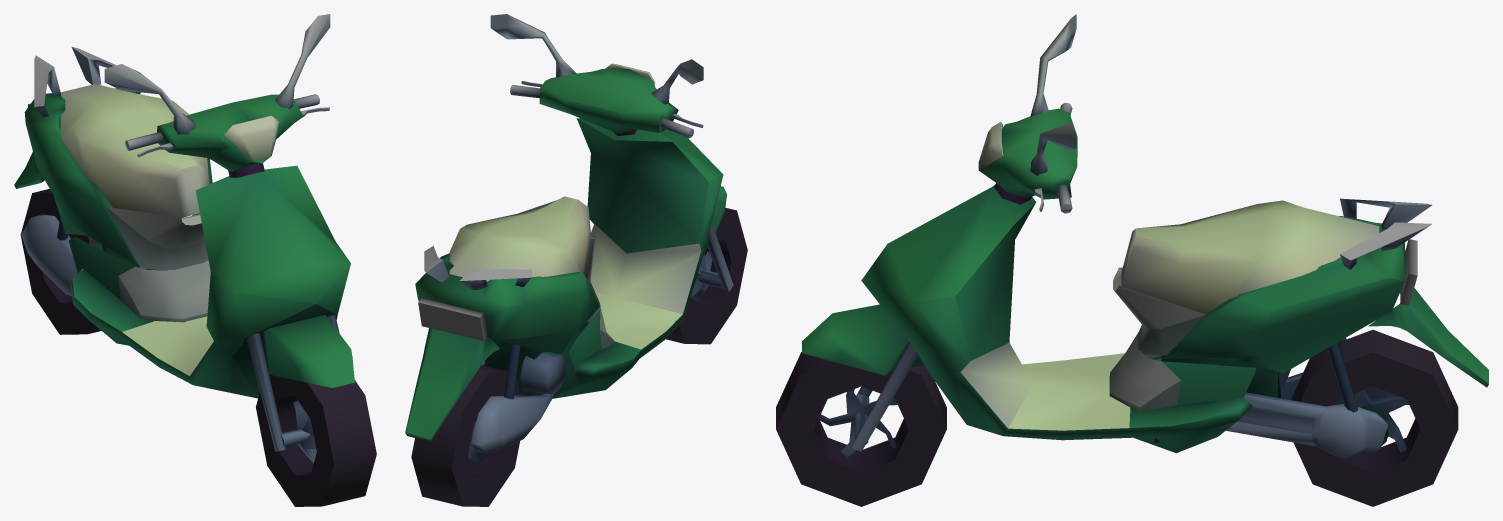
The model's file is vehicles-bikes-scooter_v1.glb.
3 renders of one model, left to right at view 1: azimuth 30°, elevation 25°; view 2: azimuth 150°, elevation 25°; view 3: azimuth 270°, elevation 25°, orthographic. The views are drawn at different scales.
Visible parts, largest first — view 1: Scooter.001, Scooter; view 2: Scooter.001, Scooter; view 3: Scooter.001, Scooter.
Boxes of the visible parts, x1,y1,x2,y2 form: Scooter.001: [14, 84, 376, 506]; Scooter: [21, 14, 339, 463]; Scooter.001: [405, 63, 747, 506]; Scooter: [424, 14, 733, 462]; Scooter.001: [776, 108, 1488, 506]; Scooter: [818, 14, 1432, 458].
Bounding box in the file's own units: 0.7157 × 1.19 × 1.8.
